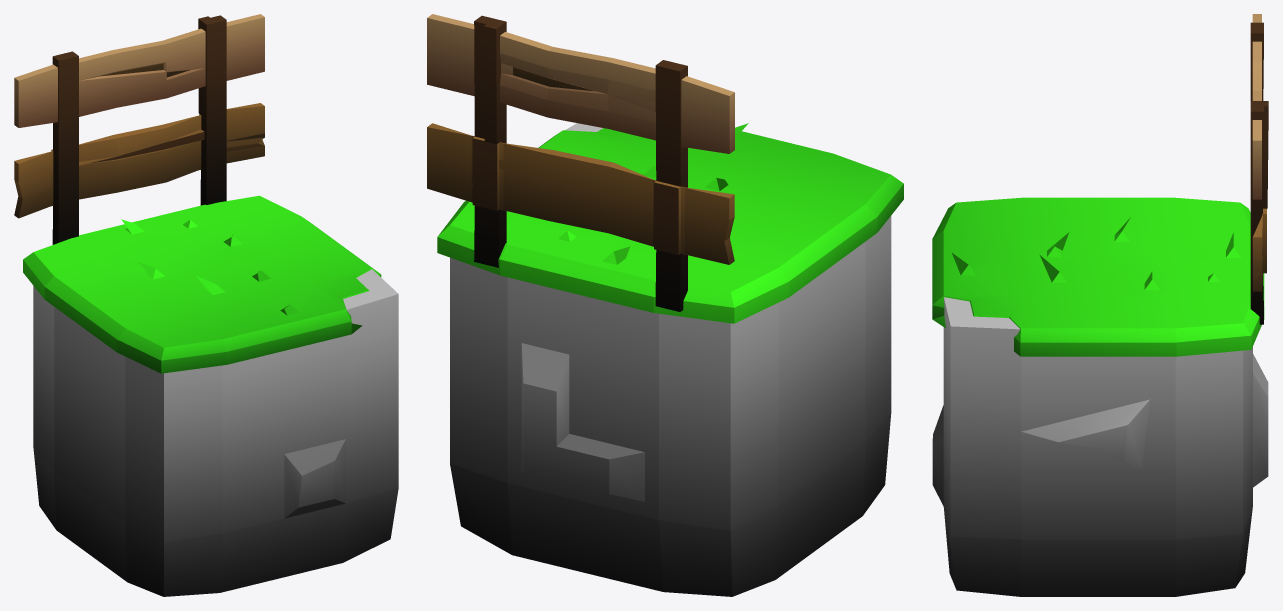
The model's file is Environment.fbx.
3 renders of one model, left to right at view 1: azimuth 30°, elevation 25°; view 2: azimuth 150°, elevation 25°; view 3: azimuth 270°, elevation 25°, orthographic. The views are drawn at different scales.
Parts seen in each view (by area): view 1: Block, Grass, Fence; view 2: Block, Fence, Grass; view 3: Block, Grass, Fence.
Boxes of the visible parts, bbox=[...] form: Block: bbox=[33, 269, 398, 596]; Grass: bbox=[23, 195, 381, 373]; Fence: bbox=[14, 14, 264, 244]; Block: bbox=[450, 123, 891, 596]; Fence: bbox=[427, 14, 734, 311]; Grass: bbox=[437, 123, 903, 323]; Block: bbox=[932, 297, 1268, 596]; Grass: bbox=[932, 197, 1264, 356]; Fence: bbox=[1250, 14, 1268, 324].
Bounding box in the file's own units: 224 × 341 × 218.
